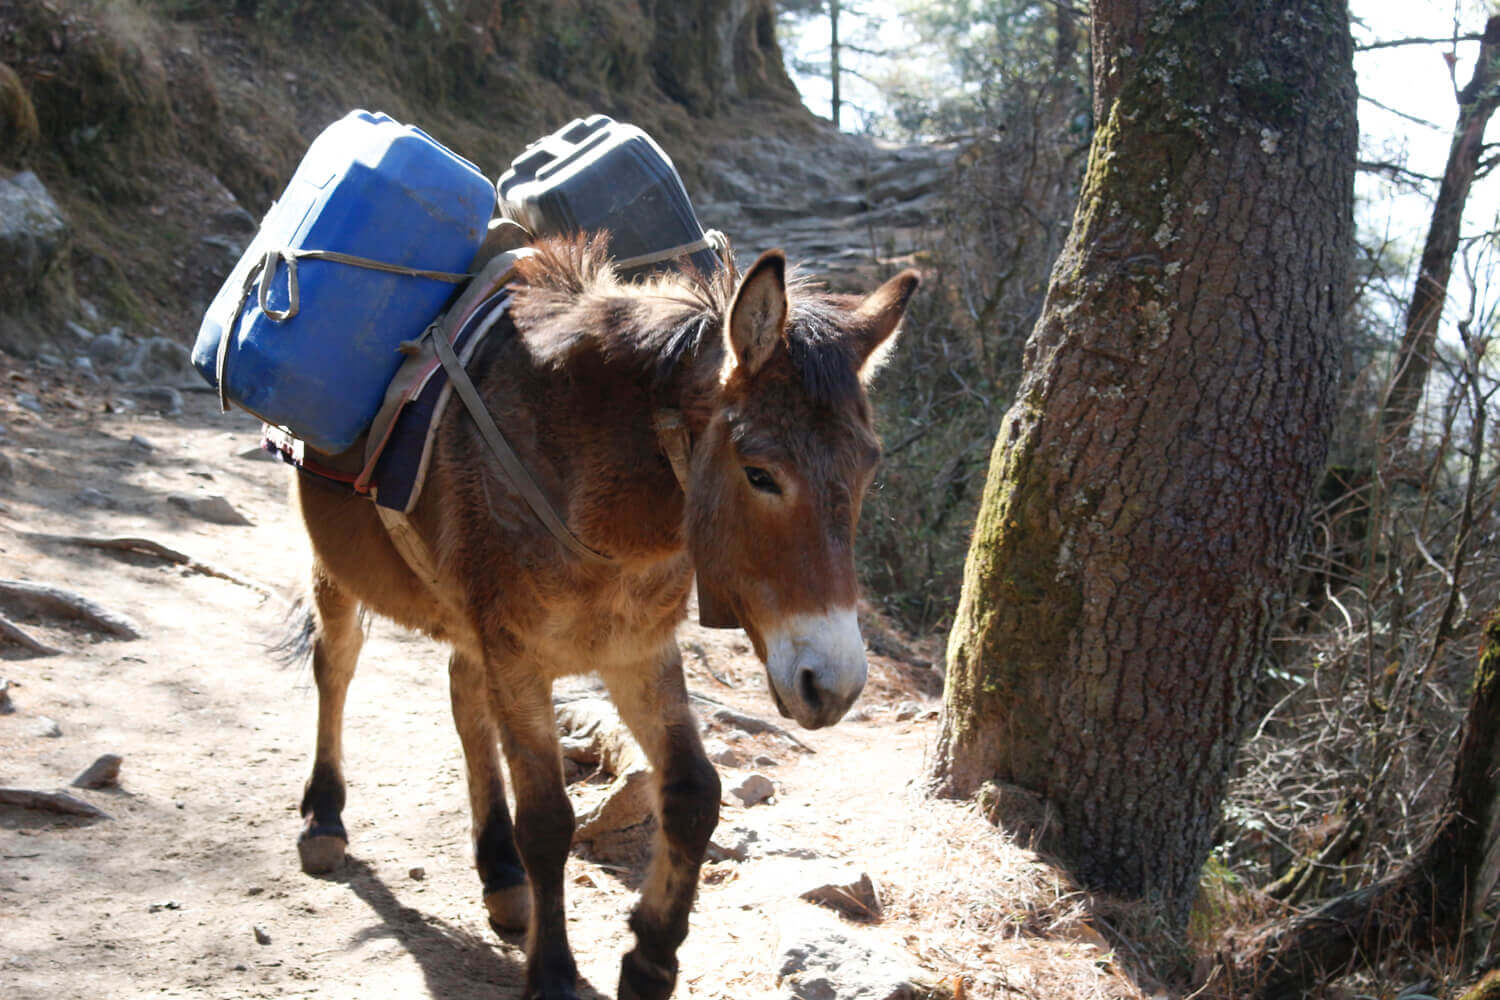equine: (259, 231, 975, 1000)
